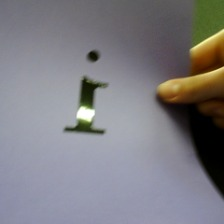violet1: (56, 46, 120, 147)
